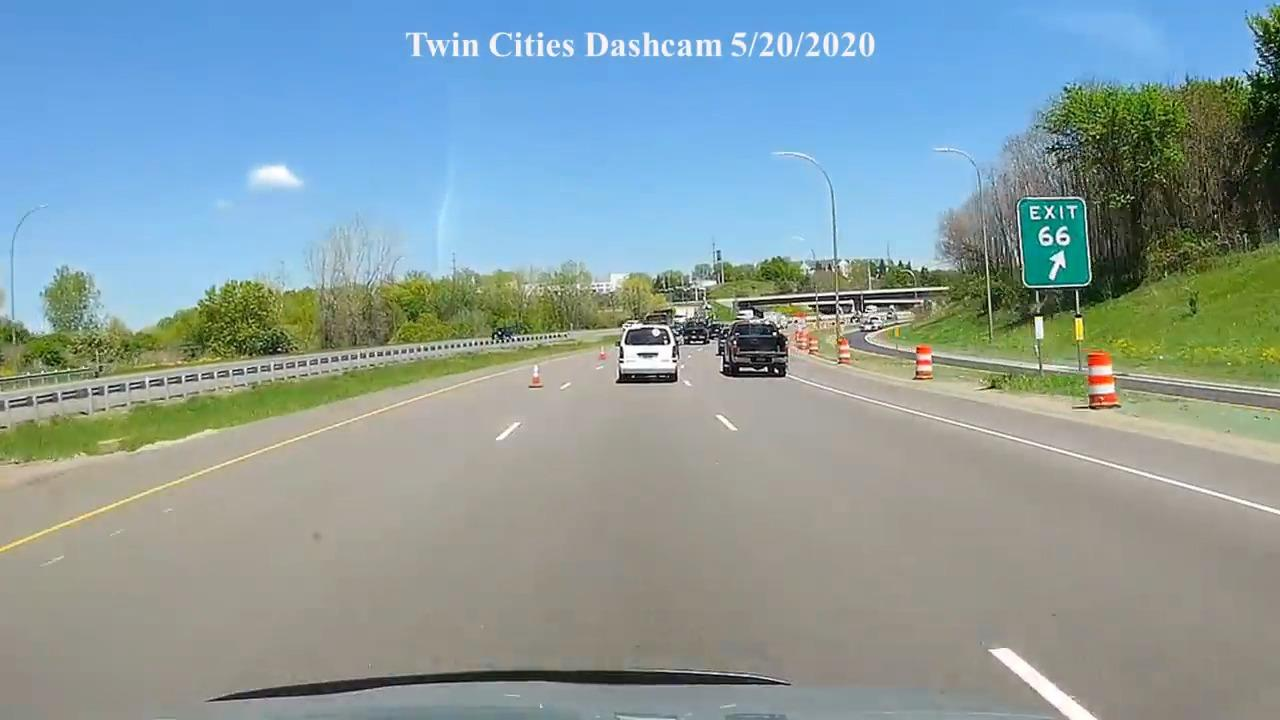car: (615, 322, 681, 384), (720, 321, 789, 378)
traffic cone: (1087, 351, 1122, 409), (914, 346, 934, 380), (837, 336, 853, 365), (528, 364, 543, 388), (595, 347, 608, 370), (597, 348, 607, 364)
